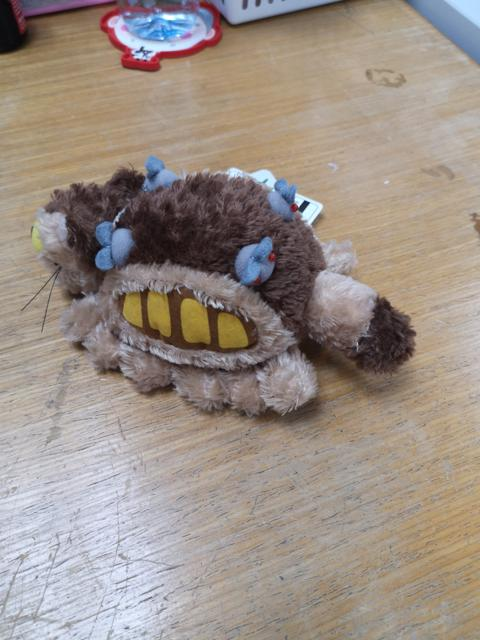nekobus: (19, 148, 422, 421)
